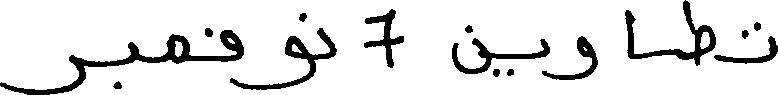7: (364, 6, 401, 68)
ا: (626, 8, 635, 59)
ب: (113, 40, 138, 91)
ت: (738, 21, 776, 62)
ر: (0, 52, 98, 93)
ط: (682, 0, 716, 66)
ف: (201, 19, 246, 66)
م: (166, 31, 189, 63)
ن: (450, 22, 490, 73), (299, 10, 336, 60)
و: (259, 36, 316, 88), (554, 33, 598, 79)
ي: (491, 36, 550, 77)
